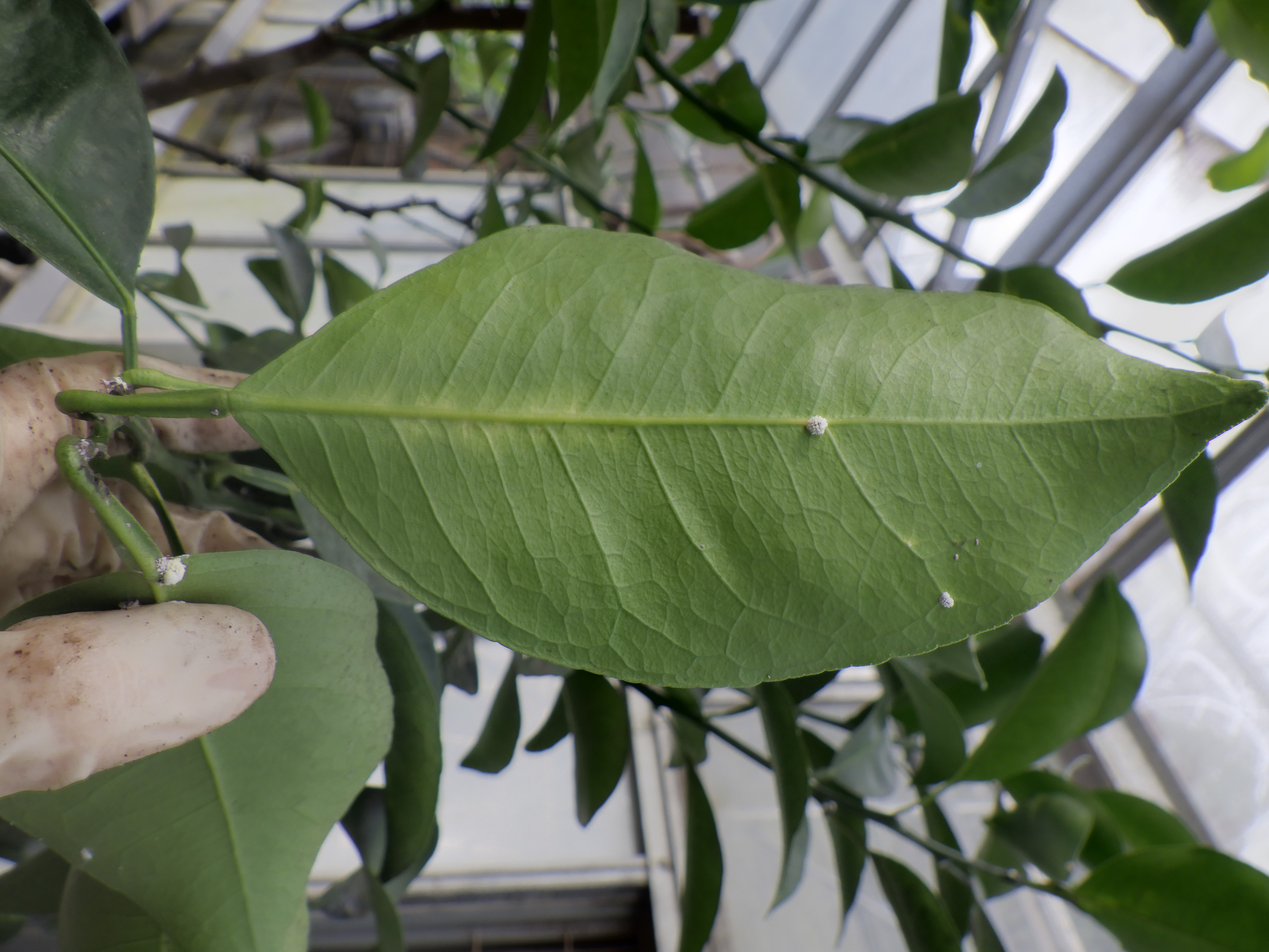Scale_Insect: (156, 556, 186, 585), (805, 415, 828, 436), (939, 591, 954, 608)
